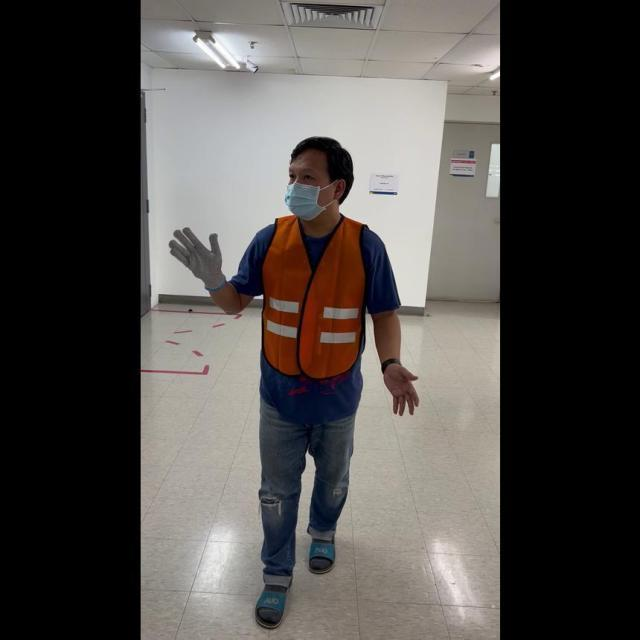bare_hand: (380, 360, 420, 417)
gloved_hand: (167, 223, 228, 292)
